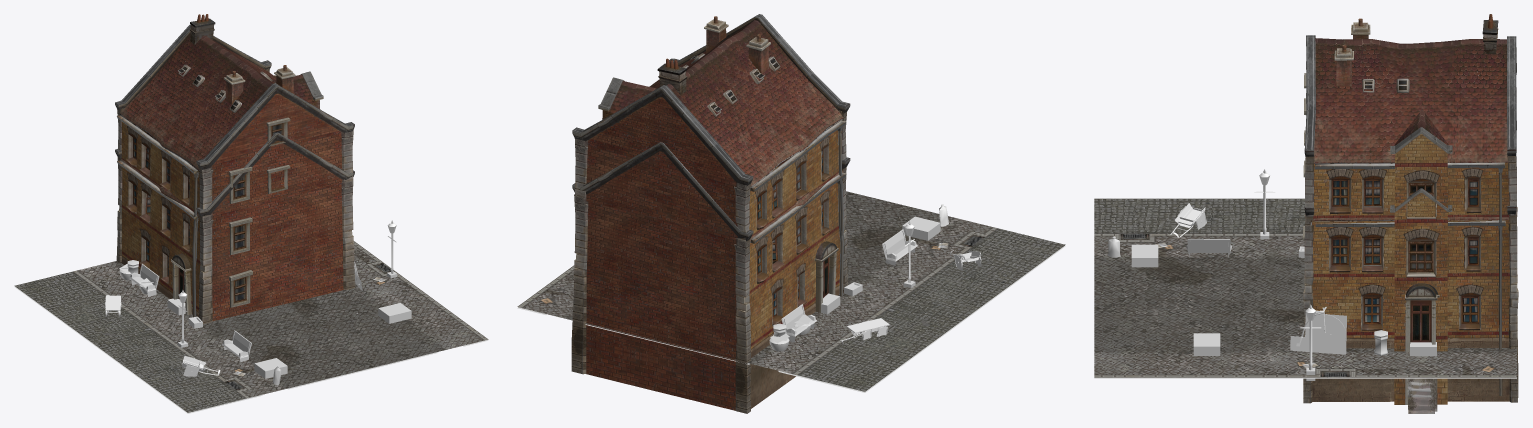
The model's file is worker_scraper_1.gltf.
The picture shows the model from 3 angles, left to right: view 1: azimuth 30°, elevation 25°; view 2: azimuth 150°, elevation 25°; view 3: azimuth 270°, elevation 25°; orthographic projection. The views are drawn at different scales.
Parts seen in each view (by area): view 1: ground, _var1_3f_lod0, _var1_2f_lod0, _var2_3f_lod0, prop_bench1, fc_feedback_door_1, prop_bench2, fc_feedback_door_3, prop_carriage1; view 2: _var1_2f_lod0, _var1_3f_lod0, ground, _var2_3f_lod0, prop_bench1, prop_flatbedwagon1, fc_feedback_door_3, prop_bench2, FeedbackBlocker.001; view 3: ground, _var1_3f_lod0, _var1_2f_lod0, prop_highwheeler1, FeedbackBlocker, fc_feedback_door_3, fc_feedback_door_1, prop_bench1, prop_carriage1, fc_feedback_door_2.
Boxes of the visible parts, box(x1,y1,x2,y2) form: ground: box(14, 241, 488, 412); _var1_3f_lod0: box(115, 14, 354, 317); _var1_2f_lod0: box(115, 132, 355, 324); _var2_3f_lod0: box(215, 71, 245, 112); prop_bench1: box(222, 330, 251, 361); fc_feedback_door_1: box(378, 303, 411, 323); prop_bench2: box(129, 263, 159, 296); fc_feedback_door_3: box(254, 358, 287, 378); prop_carriage1: box(182, 355, 220, 376); _var1_2f_lod0: box(571, 142, 850, 413); _var1_3f_lod0: box(572, 14, 850, 288); ground: box(517, 191, 1065, 391); _var2_3f_lod0: box(746, 34, 780, 83); prop_bench1: box(882, 229, 917, 265); prop_flatbedwagon1: box(839, 318, 889, 344); fc_feedback_door_3: box(902, 216, 940, 240); prop_bench2: box(781, 304, 816, 342); FeedbackBlocker.001: box(778, 246, 1065, 392); ground: box(1094, 198, 1516, 377); _var1_3f_lod0: box(1304, 14, 1517, 395); _var1_2f_lod0: box(1302, 93, 1518, 413); prop_highwheeler1: box(1290, 307, 1346, 354); FeedbackBlocker: box(1094, 377, 1516, 378); fc_feedback_door_3: box(1131, 244, 1158, 267); fc_feedback_door_1: box(1193, 333, 1220, 355); prop_bench1: box(1186, 239, 1231, 257); prop_carriage1: box(1170, 203, 1206, 237); fc_feedback_door_2: box(1410, 342, 1436, 356).
Size of what is drawn, in the model's own units: 3 by 2.68 by 3.01.
7 materials, 3 textured.
